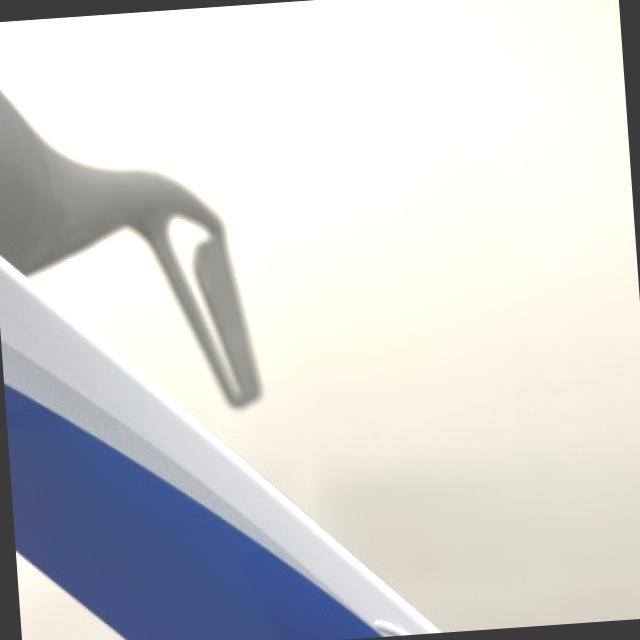healthy: (0, 91, 440, 640), (0, 86, 261, 403)
